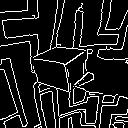cube: (30, 42, 91, 91)
